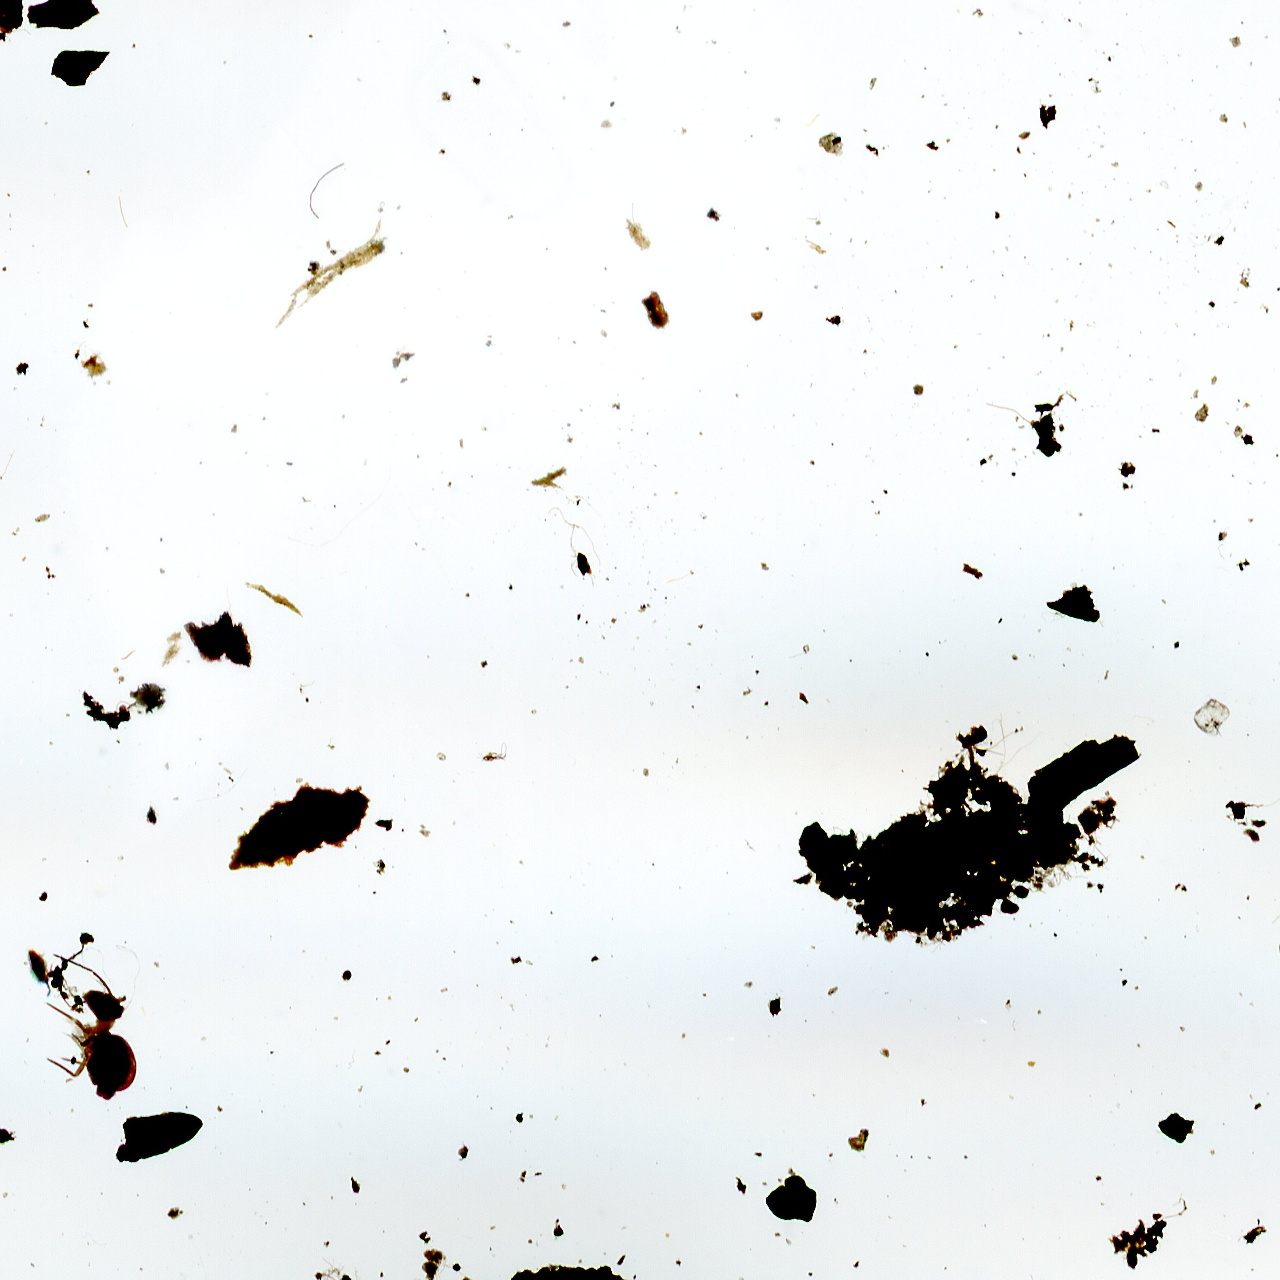arthropod: (47, 946, 141, 1104), (22, 942, 57, 1001)
